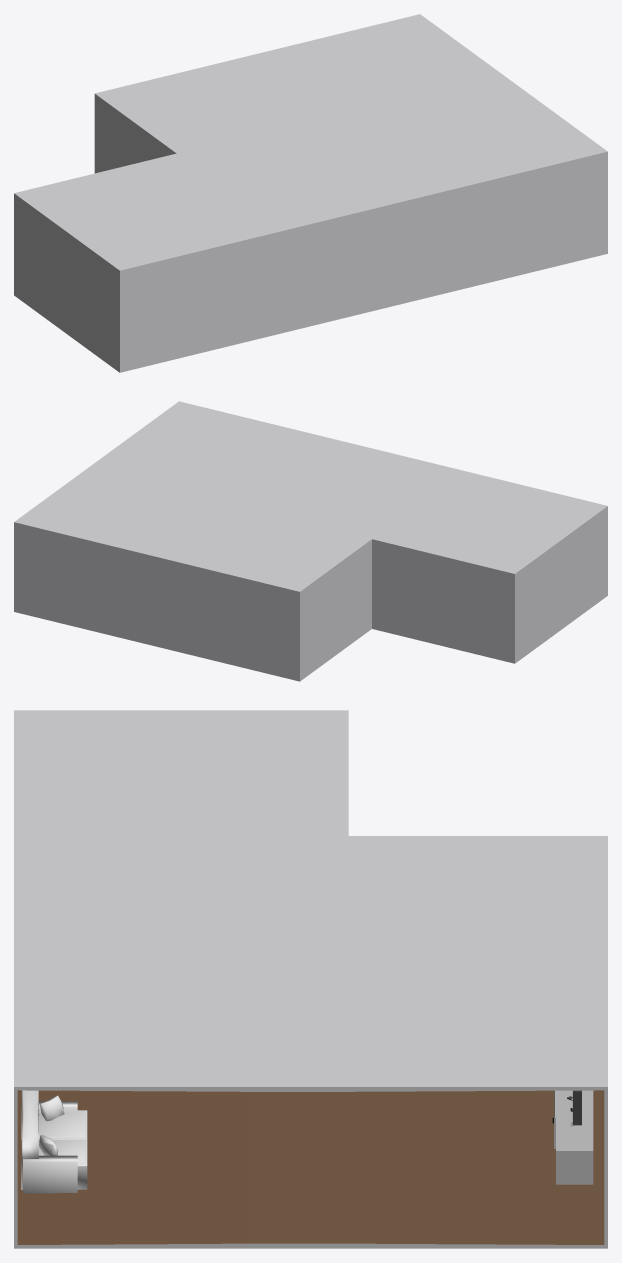
The model's file is House1.fbx.
3 renders of one model, top to bottom at view 1: azimuth 30°, elevation 25°; view 2: azimuth 150°, elevation 25°; view 3: azimuth 270°, elevation 25°, orthographic. The views are drawn at different scales.
Visible parts, largest first — view 1: Cube.002; view 2: Cube.002; view 3: Cube.002, Cube.007, Cube.013.
Boxes of the visible parts, box(x1,y1,x2,y2) form: Cube.002: box(14, 14, 607, 372); Cube.002: box(14, 401, 607, 681); Cube.002: box(14, 710, 607, 1248); Cube.007: box(21, 1090, 87, 1193); Cube.013: box(552, 1090, 593, 1184).
Bounding box in the file's own units: 4118 × 836 × 2745.
